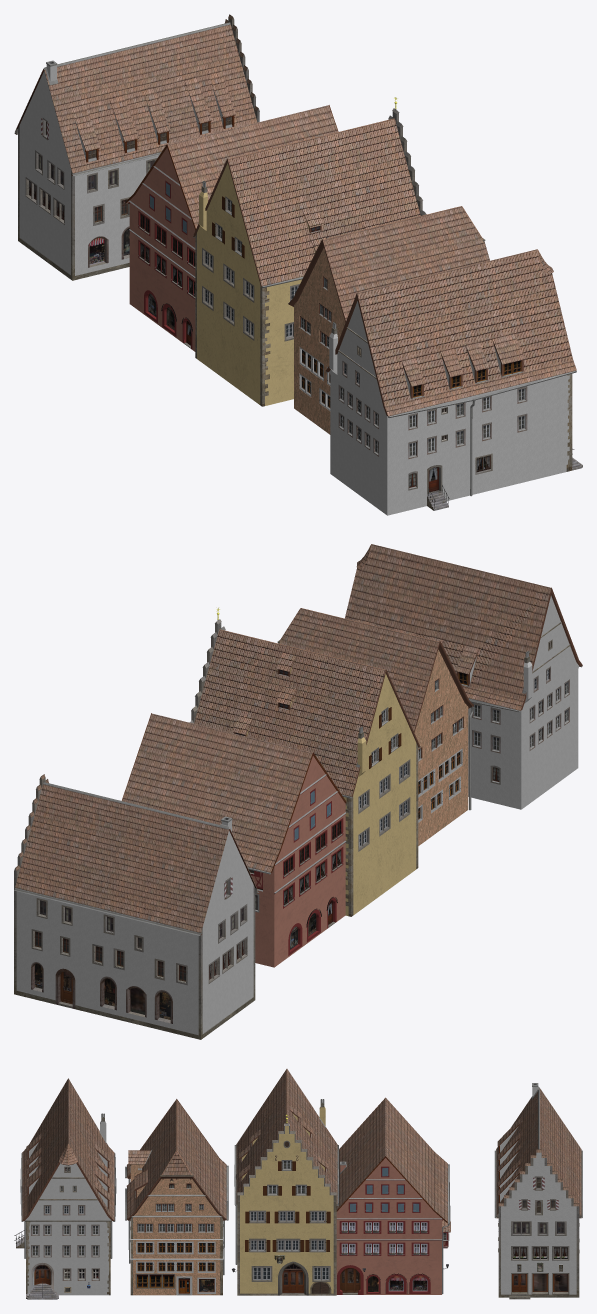
3 views of the same model, one above another, from view 1: azimuth 30°, elevation 25°; view 2: azimuth 150°, elevation 25°; view 3: azimuth 270°, elevation 25° (orthographic). The views are drawn at different scales.
Parts seen in each view (by area): view 1: Object_8, Object_6, Object_3, Object_7, Object_4, Object_2; view 2: Object_3, Object_8, Object_6, Object_4, Object_7, Object_2; view 3: Object_6, Object_4, Object_8, Object_7, Object_3, Object_2.
Boxes of the visible parts, <box> form: Object_8: <box>326,249,582,515</box>; Object_6: <box>193,97,426,406</box>; Object_3: <box>15,14,259,280</box>; Object_7: <box>288,206,489,434</box>; Object_4: <box>125,105,338,351</box>; Object_2: <box>14,116,576,508</box>; Object_3: <box>14,774,258,1039</box>; Object_8: <box>345,544,582,809</box>; Object_6: <box>189,607,420,916</box>; Object_4: <box>121,713,346,967</box>; Object_7: <box>277,608,473,845</box>; Object_2: <box>14,642,582,1019</box>; Object_6: <box>234,1069,339,1295</box>; Object_4: <box>324,1097,450,1294</box>; Object_8: <box>16,1078,114,1299</box>; Object_7: <box>126,1099,331,1295</box>; Object_3: <box>496,1083,581,1299</box>; Object_2: <box>14,1141,582,1297</box>.
Bounding box in the file's own units: 21.66 × 24.83 × 70.6.
1 material, 1 textured.
